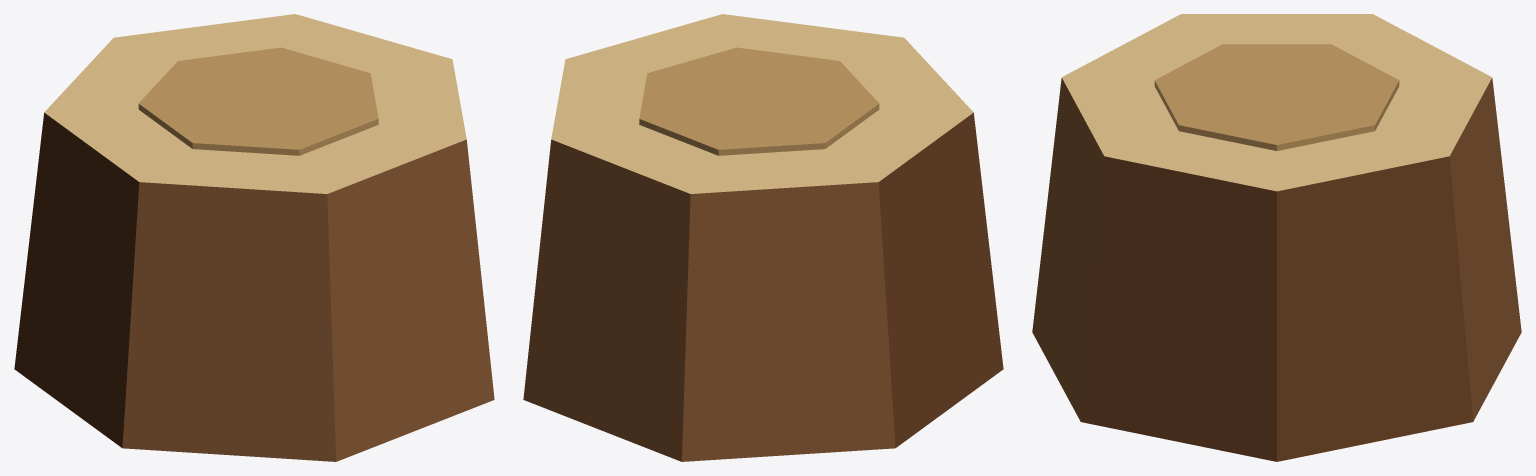
The model's file is stump_round.glb.
The picture shows the model from 3 angles, left to right: view 1: azimuth 30°, elevation 25°; view 2: azimuth 150°, elevation 25°; view 3: azimuth 270°, elevation 25°; orthographic projection.
Visible parts, largest first — view 1: stump_round; view 2: stump_round; view 3: stump_round.
Boxes of the visible parts, x1,y1,x2,y2 form: stump_round: [14, 14, 494, 461]; stump_round: [523, 14, 1003, 461]; stump_round: [1032, 14, 1521, 461].
Bounding box in the file's own units: 0.2851 × 0.174 × 0.2925.
1 material, 1 textured.
